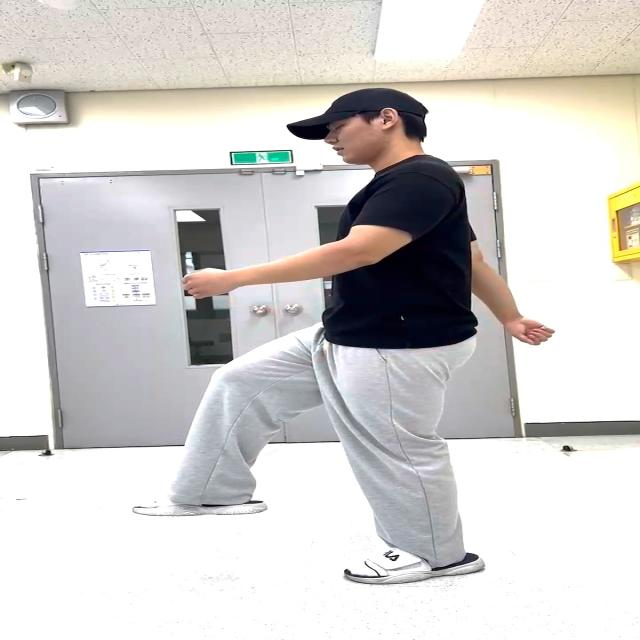leg: (149, 341, 322, 517)
